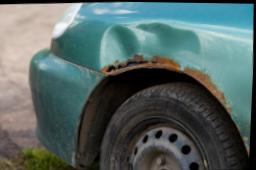Bumper: (82, 14, 253, 157)
